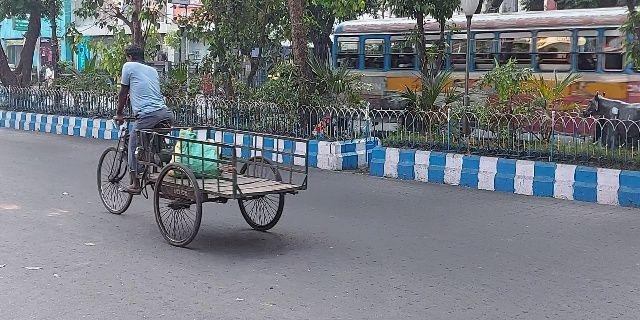Van: (87, 44, 309, 256)
